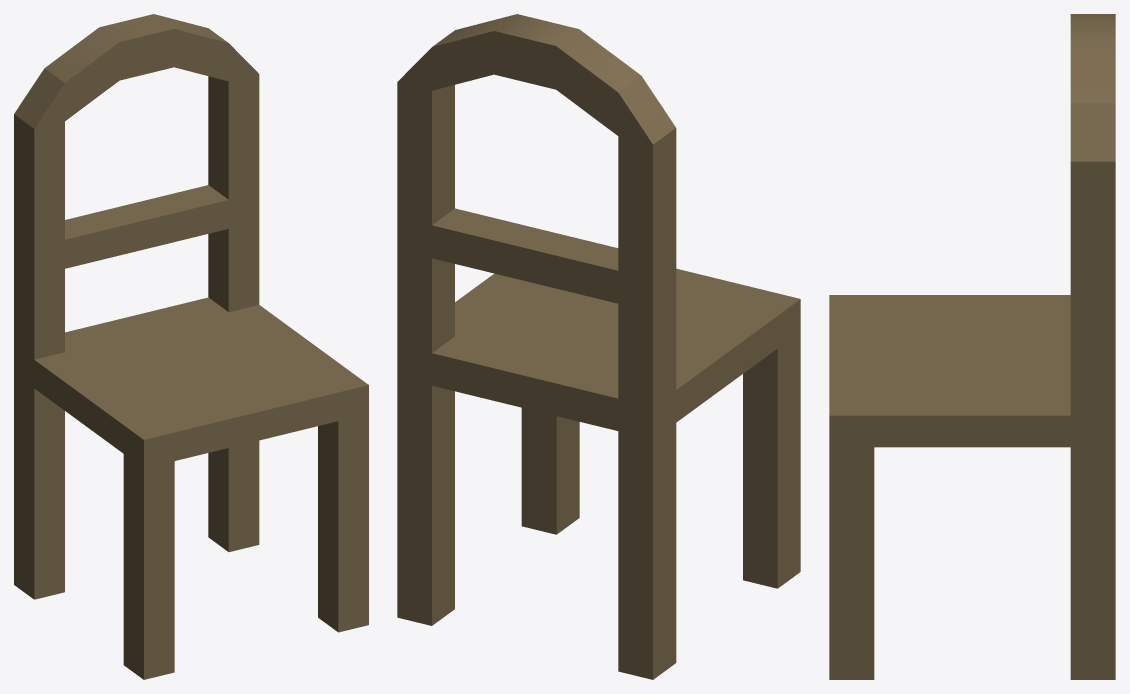
The model's file is ChairPrototype.fbx.
The picture shows the model from 3 angles, left to right: view 1: azimuth 30°, elevation 25°; view 2: azimuth 150°, elevation 25°; view 3: azimuth 270°, elevation 25°; orthographic projection. The views are drawn at different scales.
Visible parts, largest first — view 1: pCube1; view 2: pCube1; view 3: pCube1.
Boxes of the visible parts, x1=… form: pCube1: x1=14, y1=14, x2=368, y2=679; pCube1: x1=397, y1=14, x2=800, y2=679; pCube1: x1=829, y1=14, x2=1115, y2=679.
Bounding box in the file's own units: 2 × 4.56 × 2.
